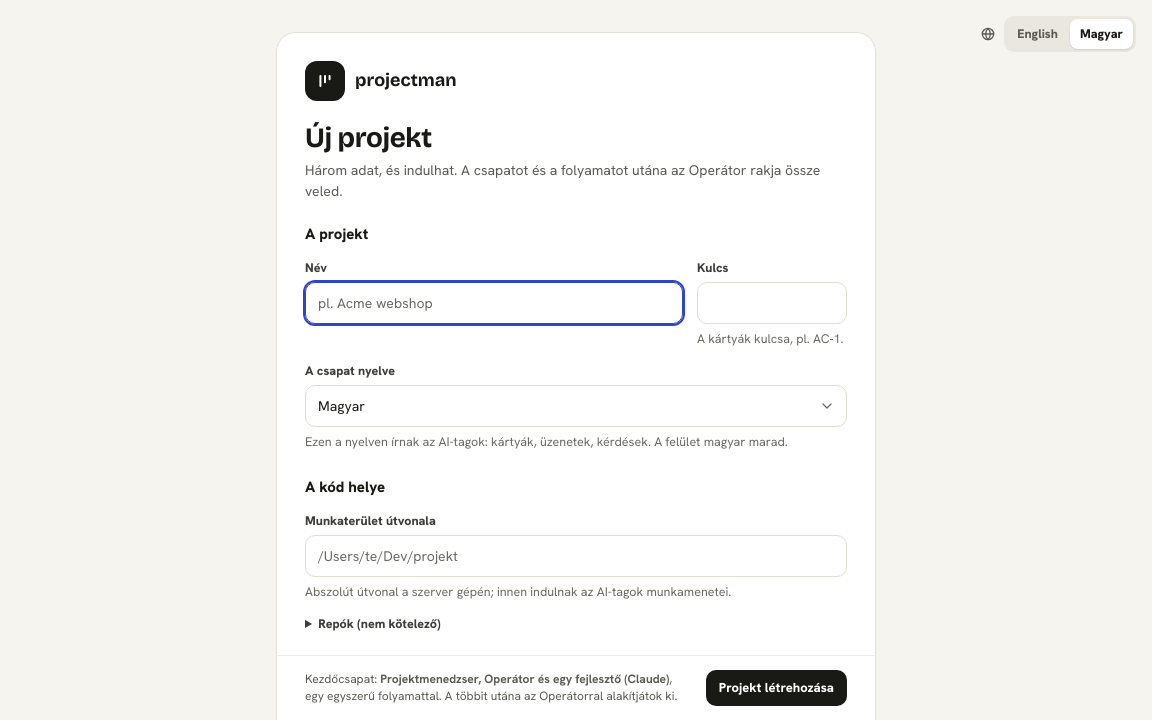
Scenario: shows workspace_not_found under the field and focuses it
Type "Acme Web" into the field labelled "Név" at {"x": 494, "y": 303}, box 305,282 -> 683,324
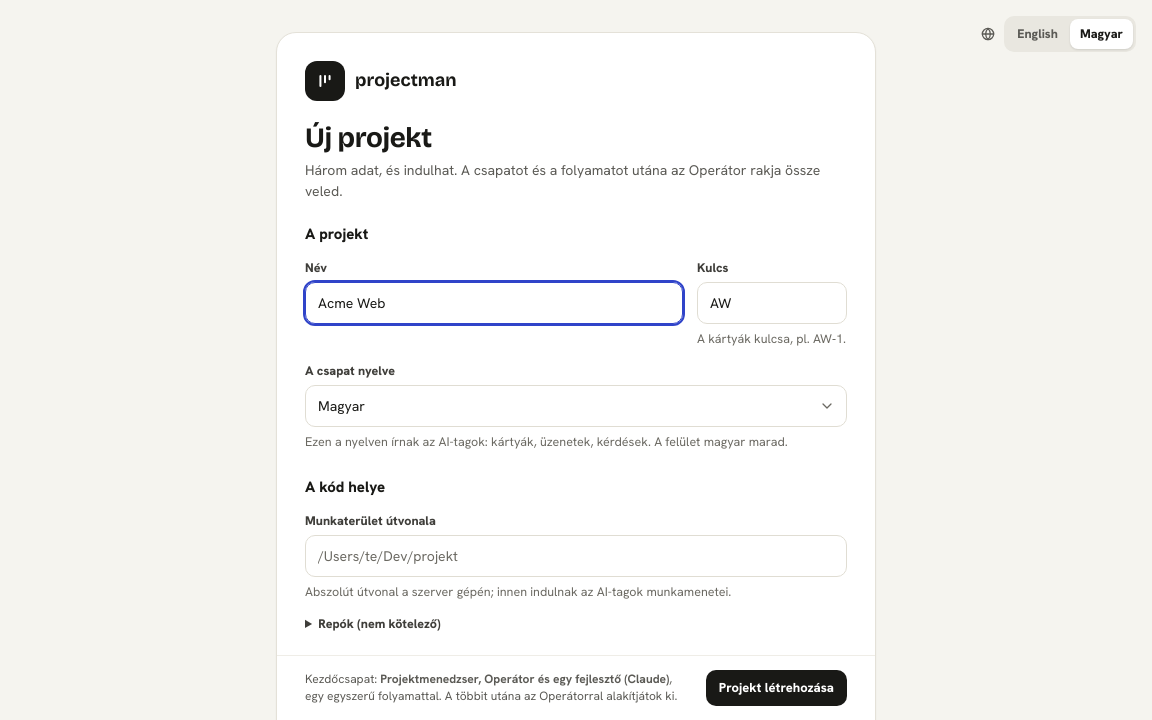
Type "/work/acme" into the field labelled "Munkaterület útvonala" at {"x": 576, "y": 556}, box 305,535 -> 847,577
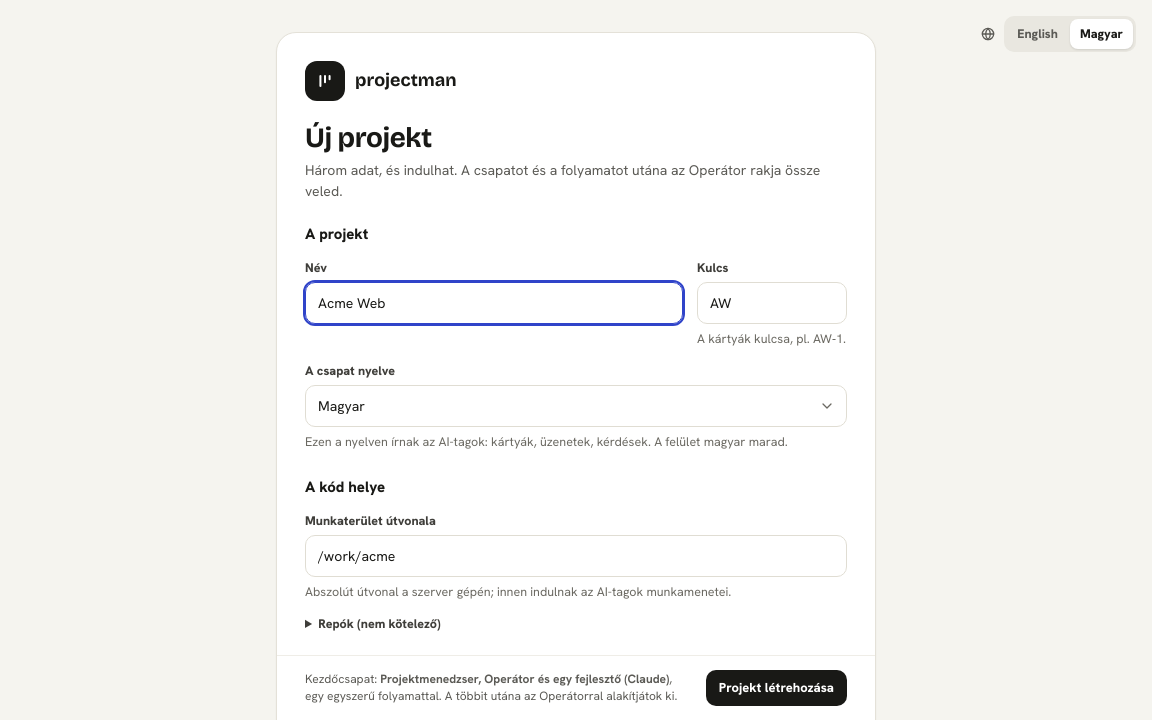
Click the button "Projekt létrehozása" at {"x": 776, "y": 688}, box 706,670 -> 847,706
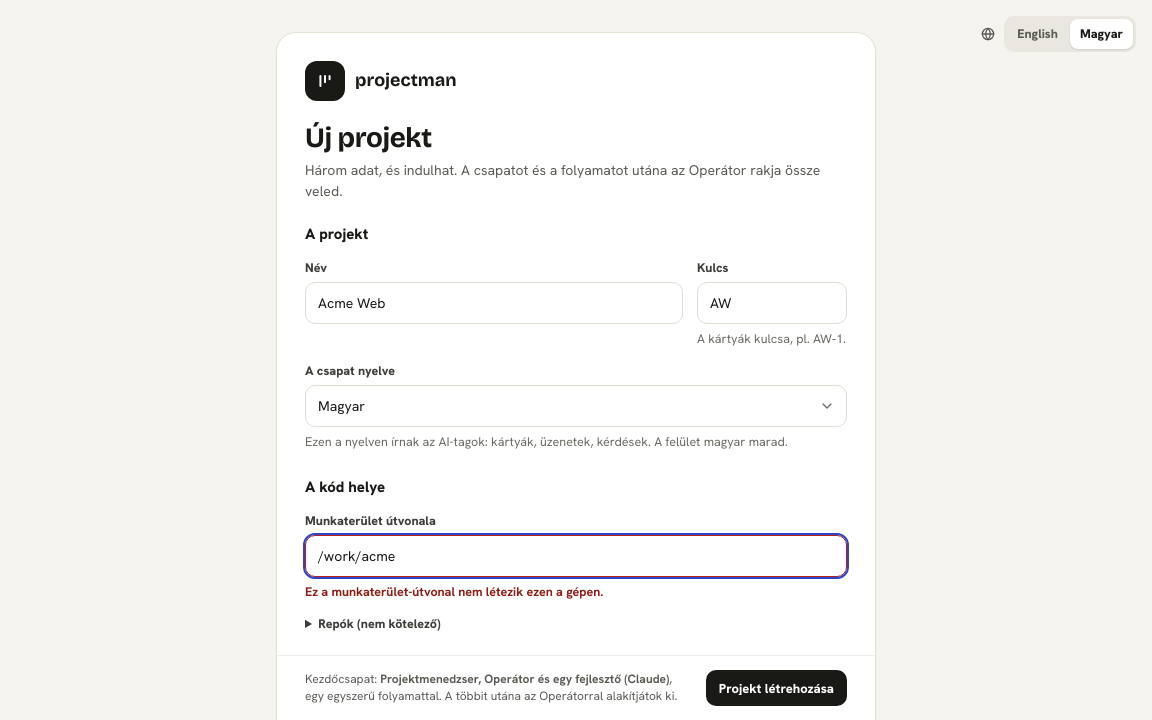
Now the text "Ez a munkaterület-útvonal nem létezik ezen a gépen." is shown, box 305,583 -> 603,600
